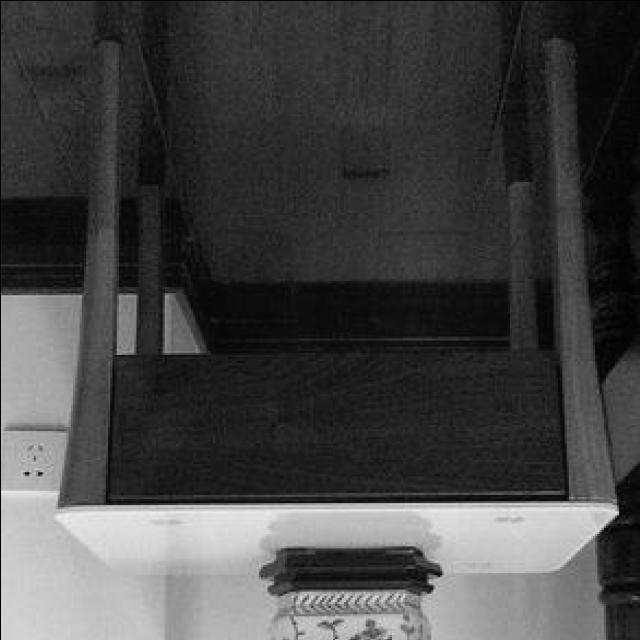table: (58, 31, 614, 578)
